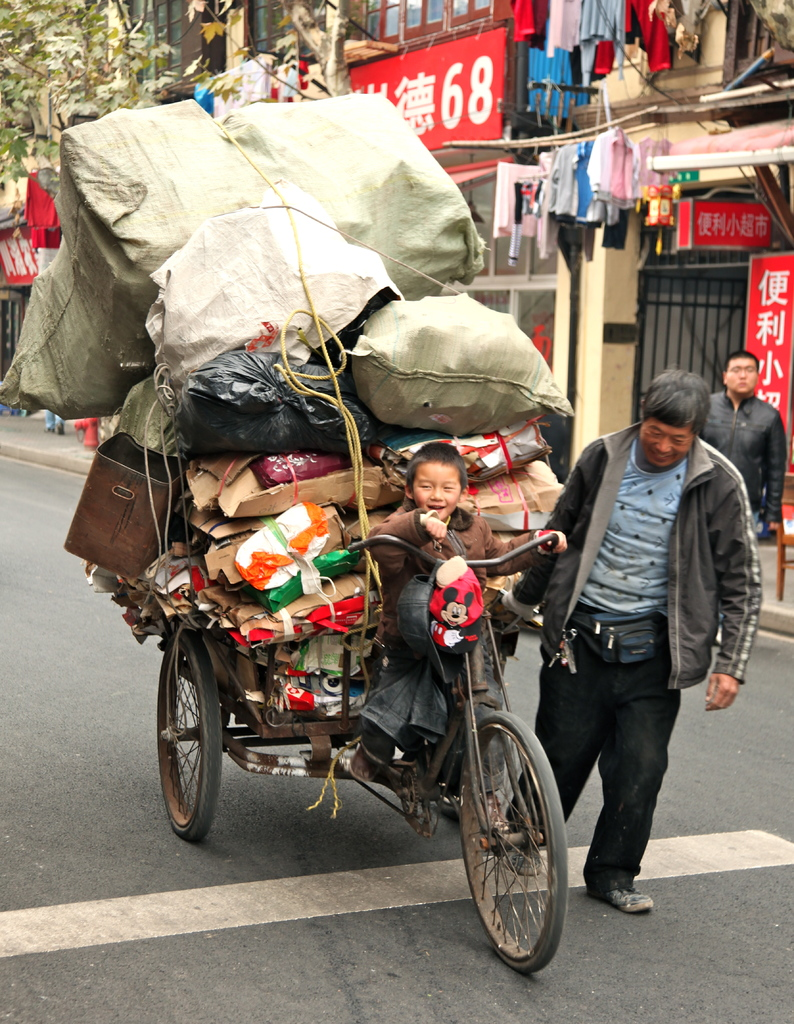Person: (353, 448, 572, 830), (700, 353, 786, 645)
